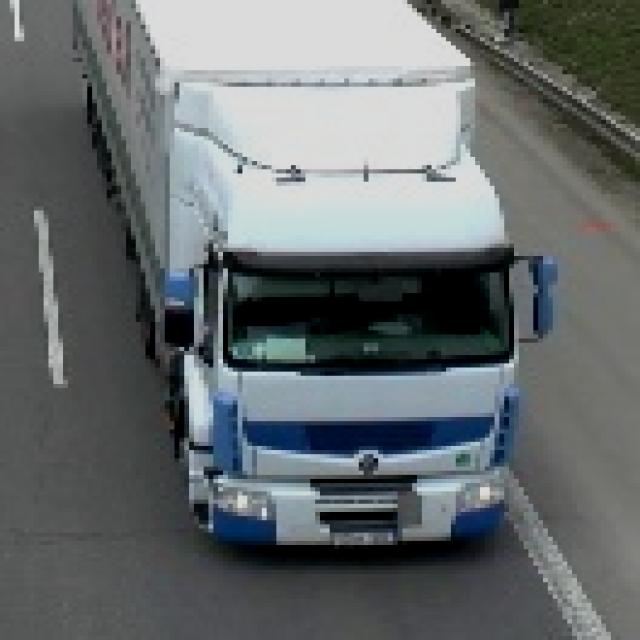TRUCK: (136, 30, 542, 562)
